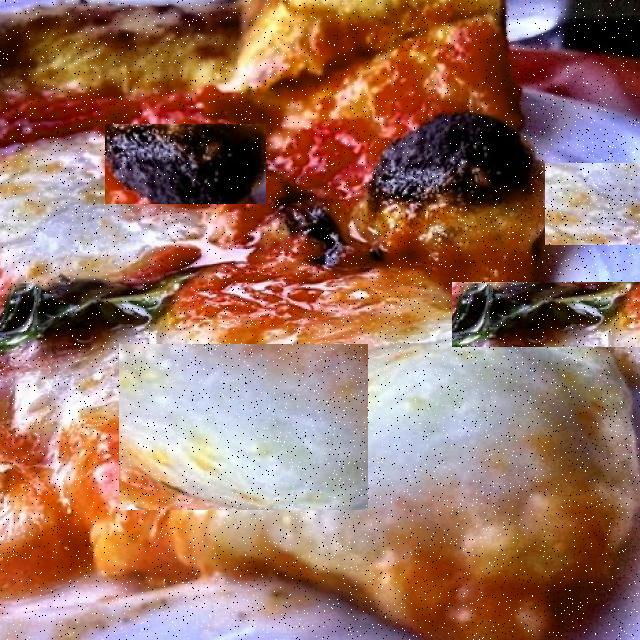Basil: (452, 282, 640, 347)
Cheese: (119, 344, 368, 510), (545, 163, 640, 245)
Olives: (105, 124, 266, 204)
Pizza: (0, 0, 640, 640)
